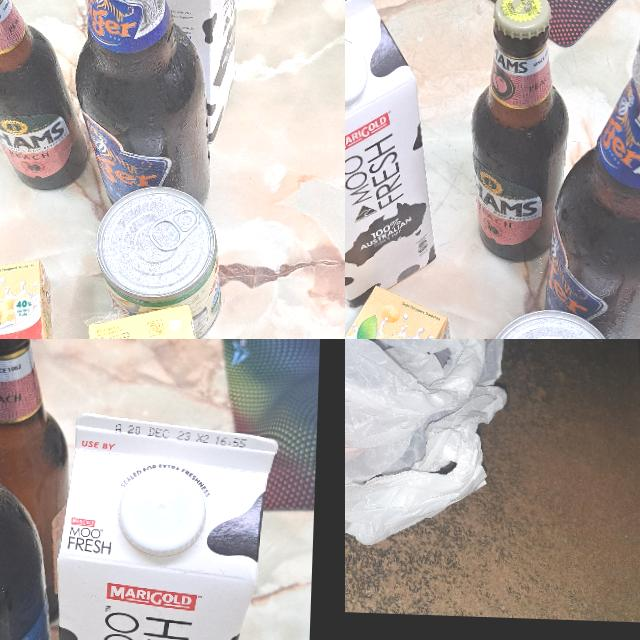aba de lata: (147, 206, 199, 252)
caixinha: (48, 408, 278, 640), (345, 0, 445, 312), (102, 0, 241, 142), (0, 256, 67, 339), (83, 301, 211, 339)
garrafa de vidro: (70, 0, 220, 210), (544, 11, 640, 339), (468, 0, 572, 264), (0, 339, 76, 626), (0, 0, 94, 194)
lata: (94, 184, 225, 339)
sacola plástica: (345, 339, 525, 561)
tampa plástica: (120, 466, 206, 558), (345, 36, 368, 106)
